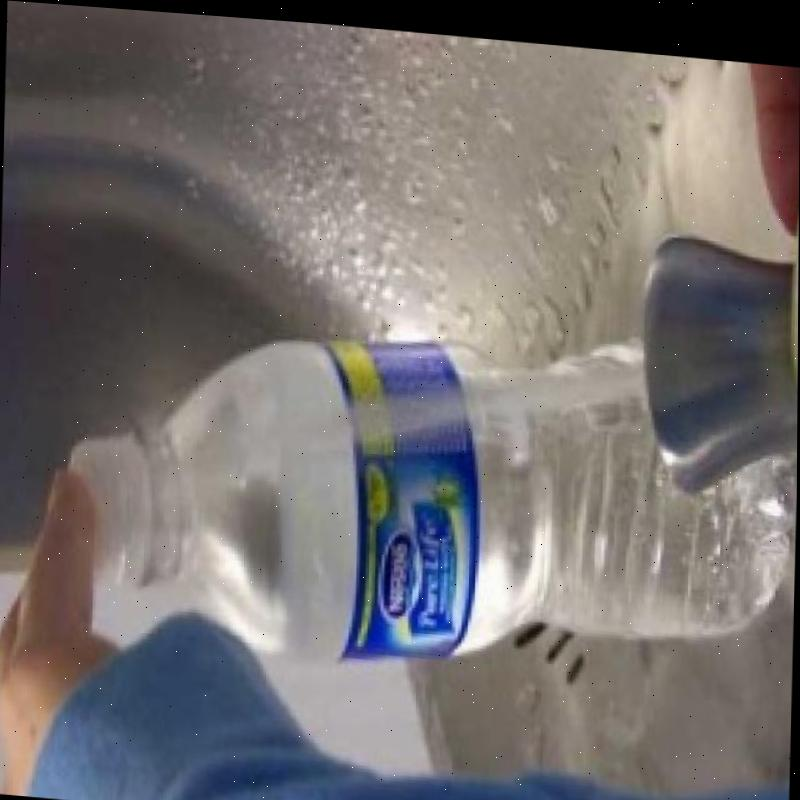botella: (61, 287, 794, 692)
